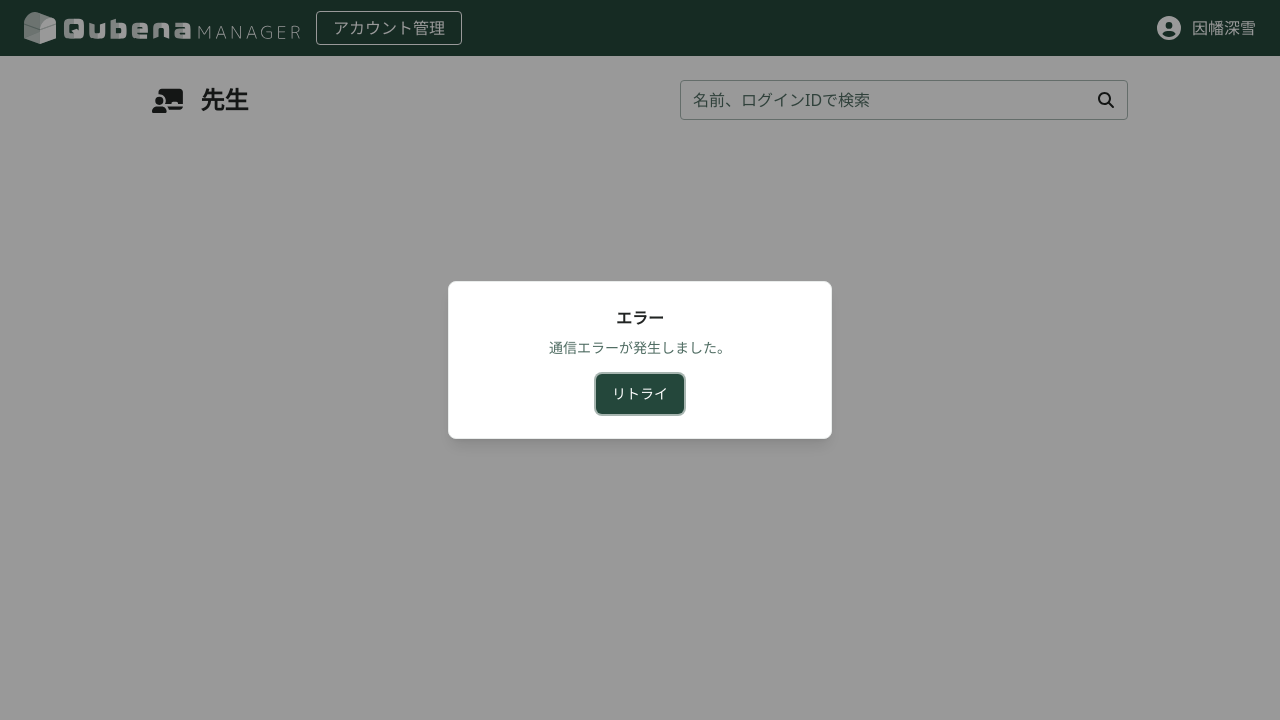
FacilitatorListPage › 通信エラー時にダイアログを表示し、リトライで復帰する
The width and height of the screenshot is (1280, 720).
expect the text "通信エラーが発生しました。" is shown: met, box [549,338,731,357]
Click the button "リトライ" at {"x": 640, "y": 394}, box [596,374,684,414]
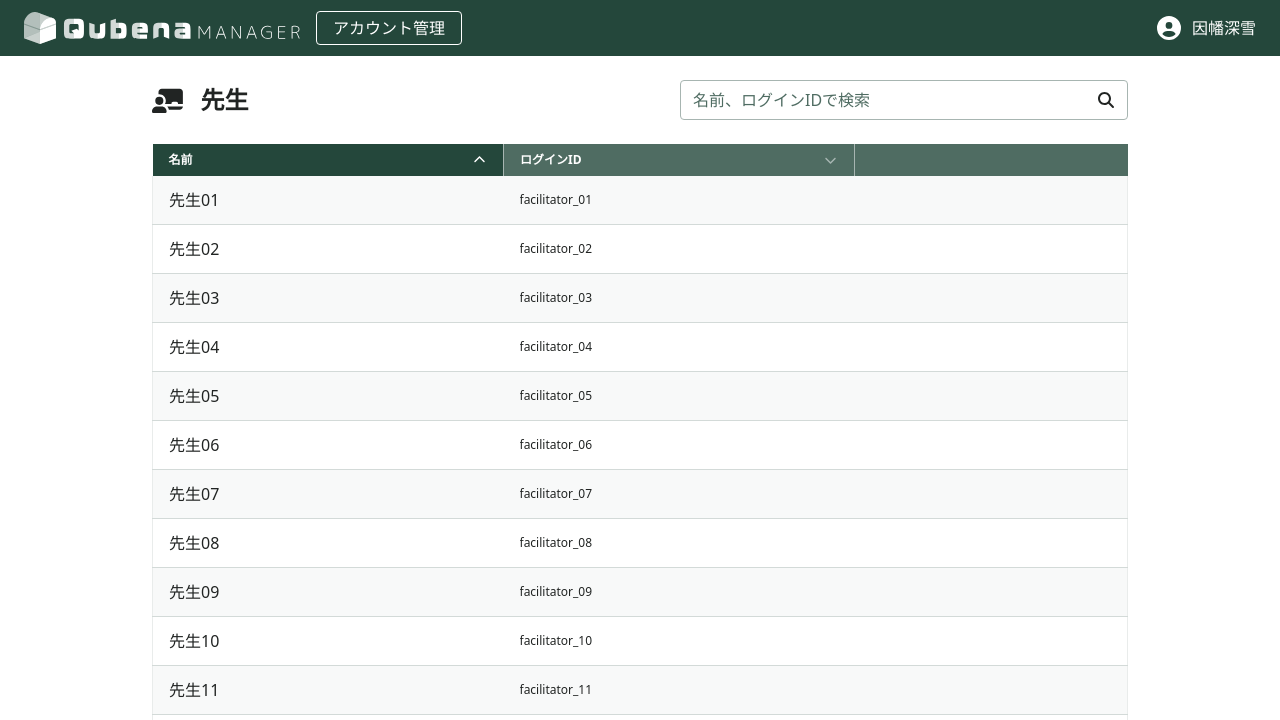
expect the text "先生01" is shown: met, box [169,189,219,211]
expect the text "通信エラーが発生しました。" is gone: met
